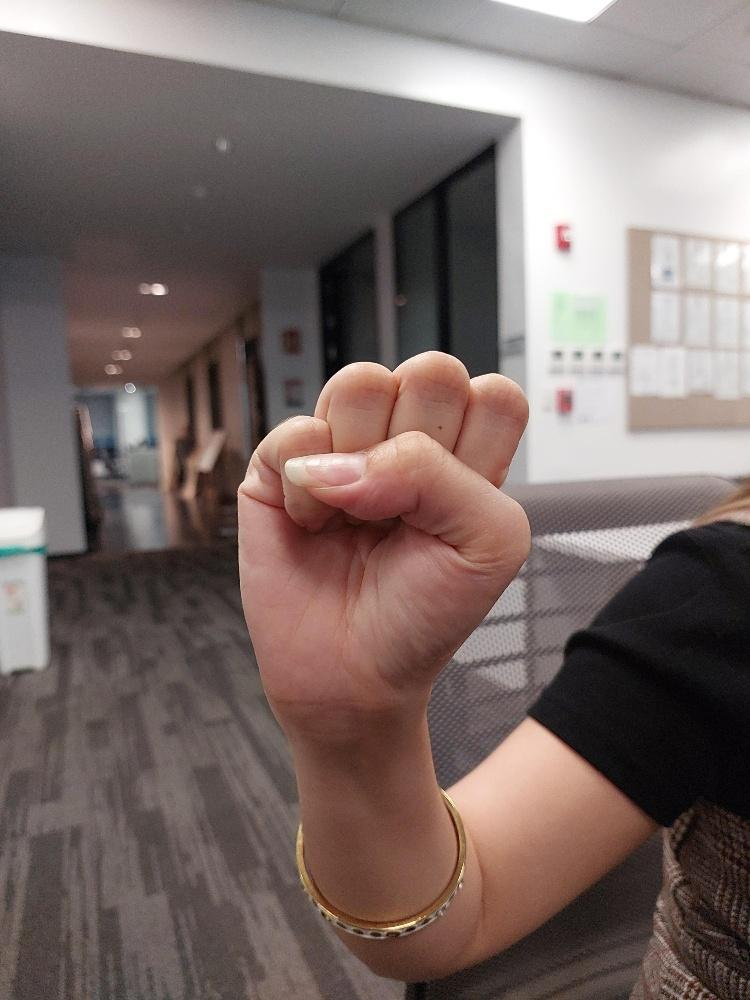s: (233, 346, 538, 744)
